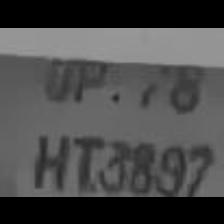3: (100, 122, 128, 190)
7: (127, 44, 166, 110), (181, 134, 215, 192)
8: (159, 44, 211, 114), (120, 132, 154, 192)
9: (150, 134, 184, 192)
H: (24, 122, 70, 191)
P: (68, 44, 113, 108)
T: (68, 126, 98, 192)
U: (36, 44, 78, 108)
